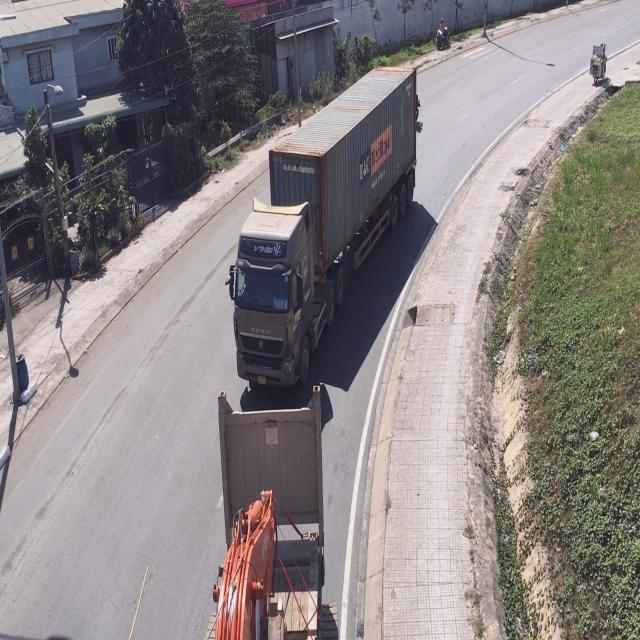motorbike: (590, 44, 608, 88), (435, 19, 451, 49)
truck: (227, 66, 419, 399), (206, 385, 337, 640)
